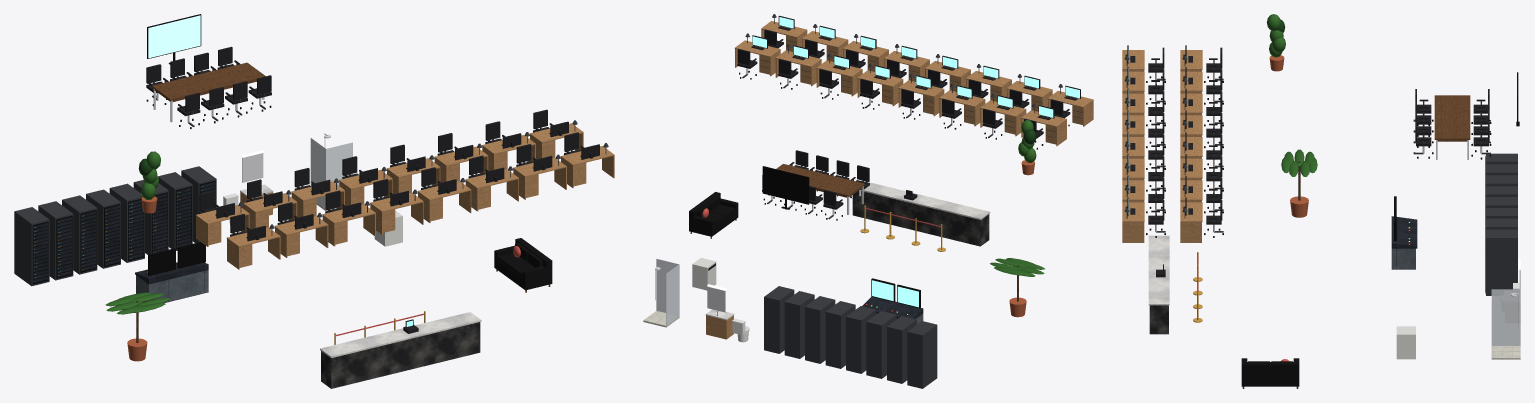
The model's file is i_bank_classical.gltf.
3 views of the same model, side by side, from view 1: azimuth 30°, elevation 25°; view 2: azimuth 150°, elevation 25°; view 3: azimuth 270°, elevation 25° (orthographic). The views are drawn at different scales.
Parts seen in each view (by area): view 1: I_bank_classical; view 2: I_bank_classical; view 3: I_bank_classical.
Boxes of the visible parts, x1=… form: I_bank_classical: x1=14, y1=14, x2=614, y2=388; I_bank_classical: x1=643, y1=14, x2=1093, y2=388; I_bank_classical: x1=1122, y1=14, x2=1520, y2=388.
Bounding box in the file's own units: 13.89 × 6.91 × 12.39.
Materials: 32 (9 with a texture image).
